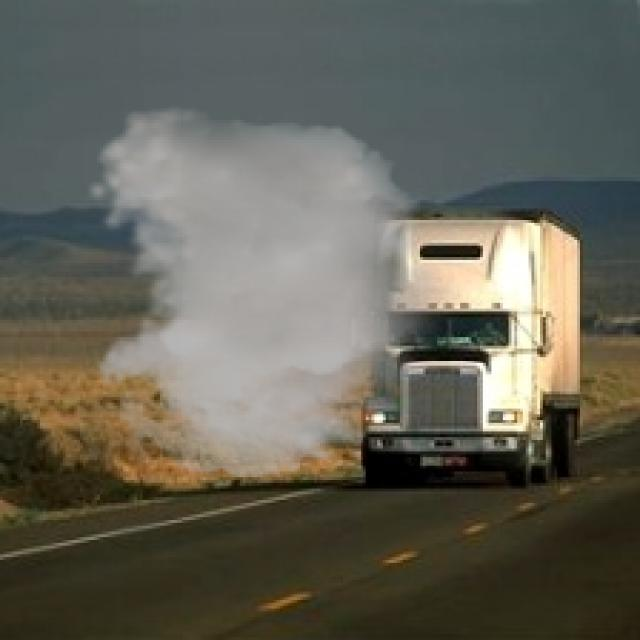smoke: (86, 106, 471, 477)
